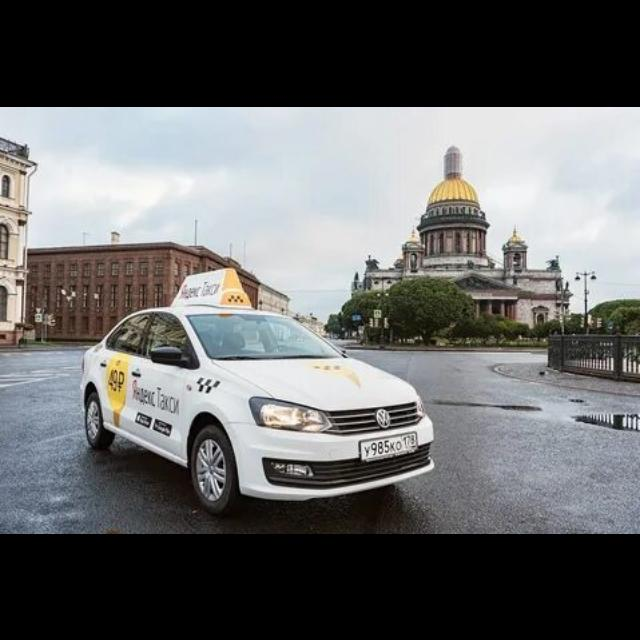taxi: (81, 267, 436, 516)
